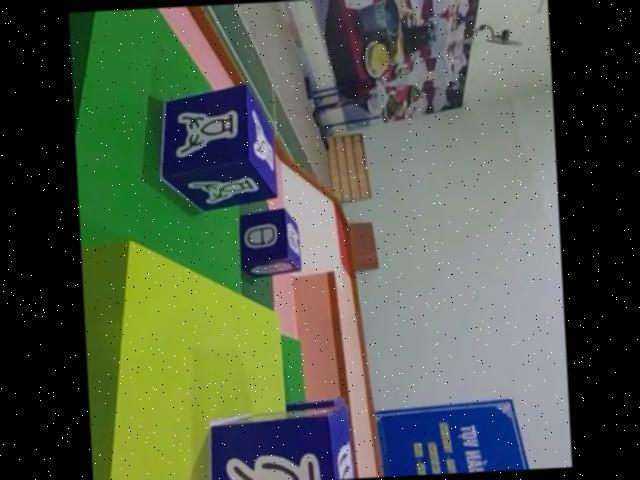R2 Fake Blue: (198, 401, 357, 480), (237, 208, 302, 279)
R2 Real Blue: (153, 86, 277, 216)
